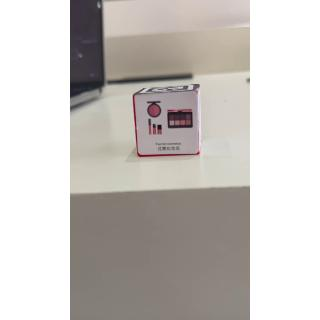Expired_Cosmetic: (135, 93, 202, 156)
